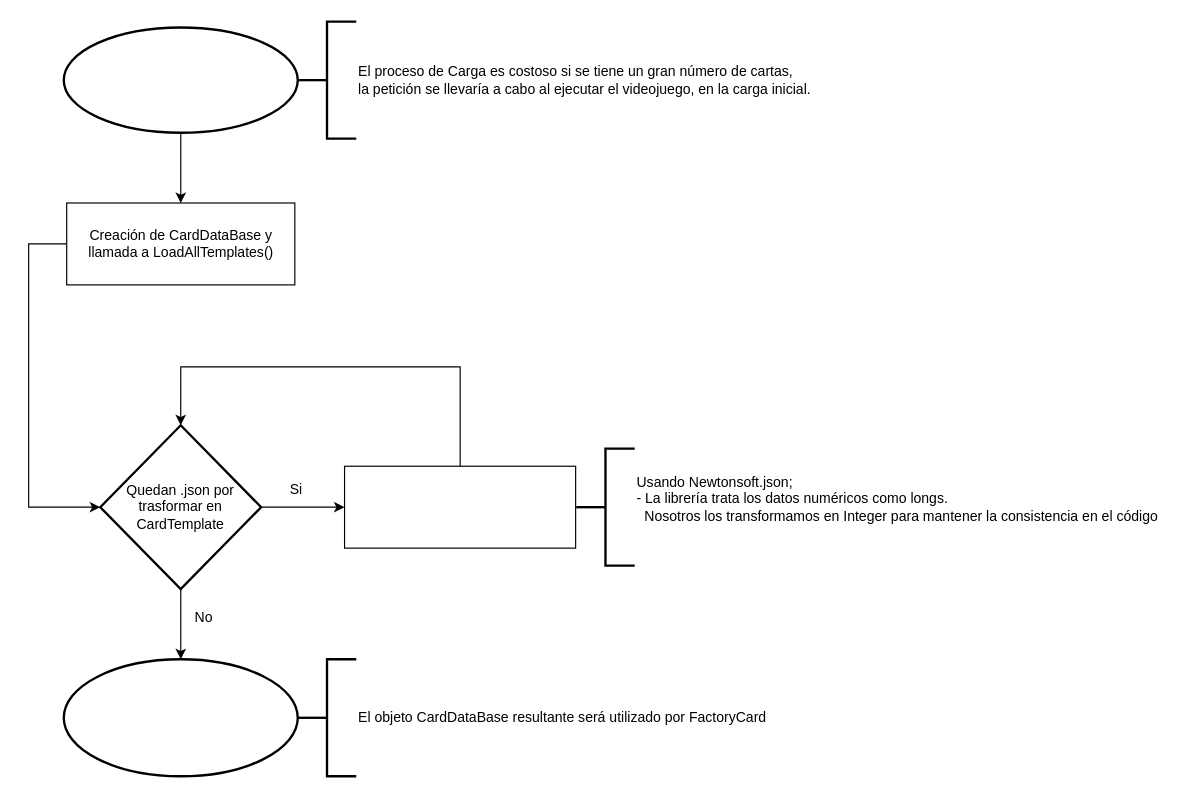
This 1179x797 diagram has some shape labels left out. Each missing label, with the box of its shape:
Deserialize del siguiente .json a un CardTemplate: (343, 465, 576, 548)
Los CardTemplate quedan guardados en un Dictionary<String, CardTemplate>: (62, 658, 298, 777)
Petición de carga de Cards en formato .json al iniciar el juego: (62, 26, 298, 133)
